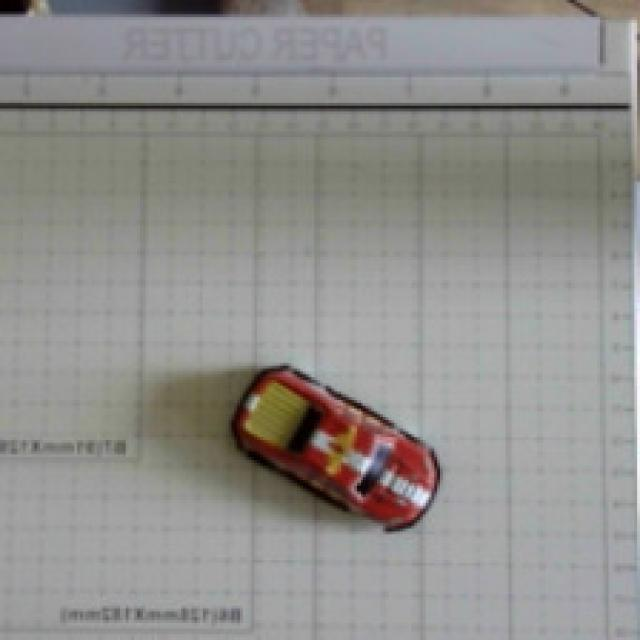Red Car: (195, 327, 473, 563)
